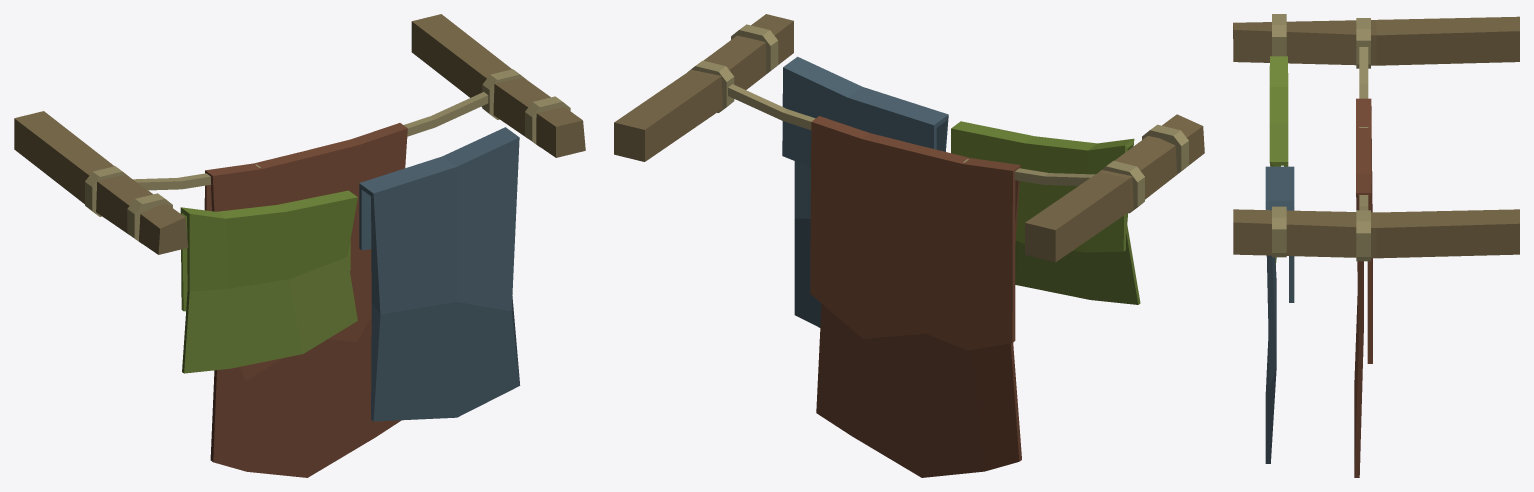
File: ClothesLine.fbx
The picture shows the model from 3 angles, left to right: view 1: azimuth 30°, elevation 25°; view 2: azimuth 150°, elevation 25°; view 3: azimuth 270°, elevation 25°; orthographic projection. The views are drawn at different scales.
Parts seen in each view (by area): view 1: ClothesLine; view 2: ClothesLine; view 3: ClothesLine.
Boxes of the visible parts, left/top/right/bottom form: ClothesLine: left=14, top=14, right=585, bottom=477; ClothesLine: left=614, top=14, right=1204, bottom=477; ClothesLine: left=1233, top=14, right=1519, bottom=477.
Bounding box in the file's own units: 196 × 153 × 113.
